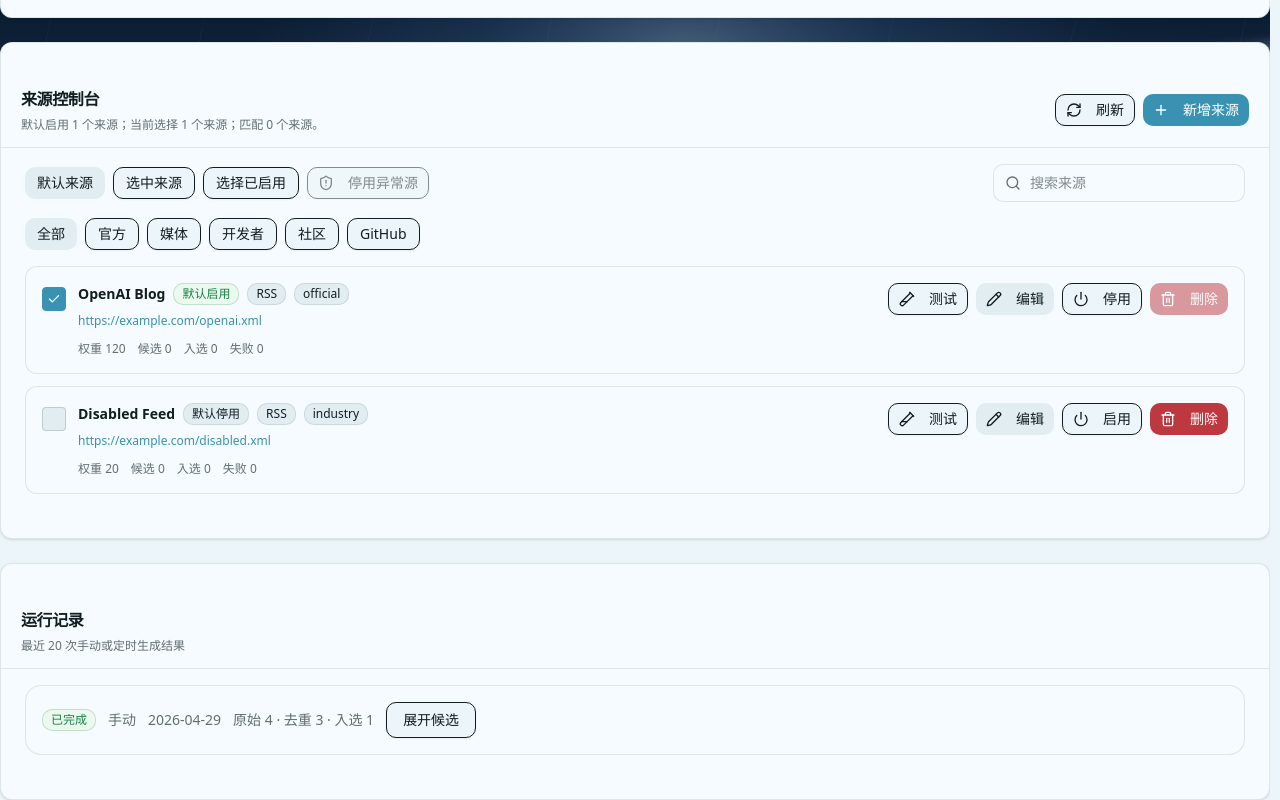
admin AI news page › loads and renders candidates when a run is expanded
(page scrolled)
Click the button "展开候选" at (431, 720), box [386,702,476,738]
(page scrolled)
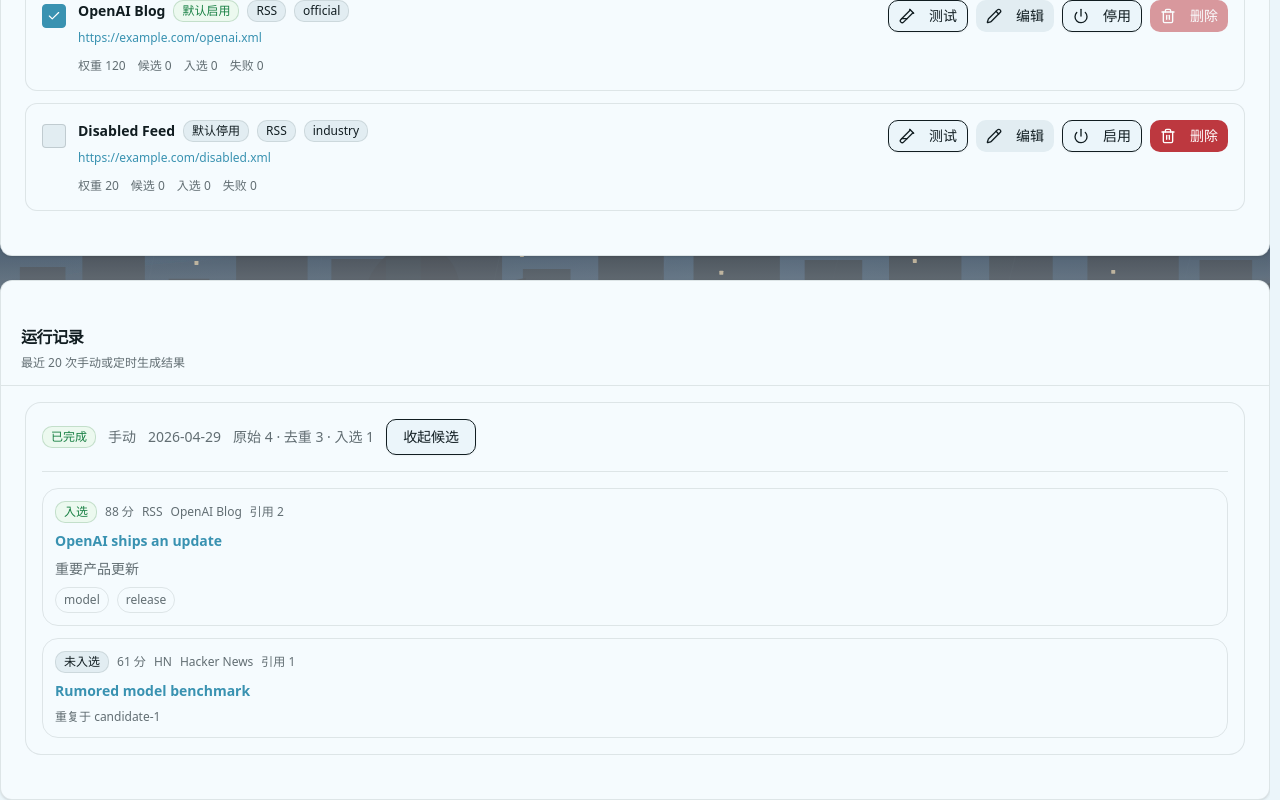
Expected: the text "入选" is shown, [55,501,97,523]
Expected: the text "未入选" is shown, [55,651,109,673]
Expected: the text "88 分" is shown, [105,504,134,520]
